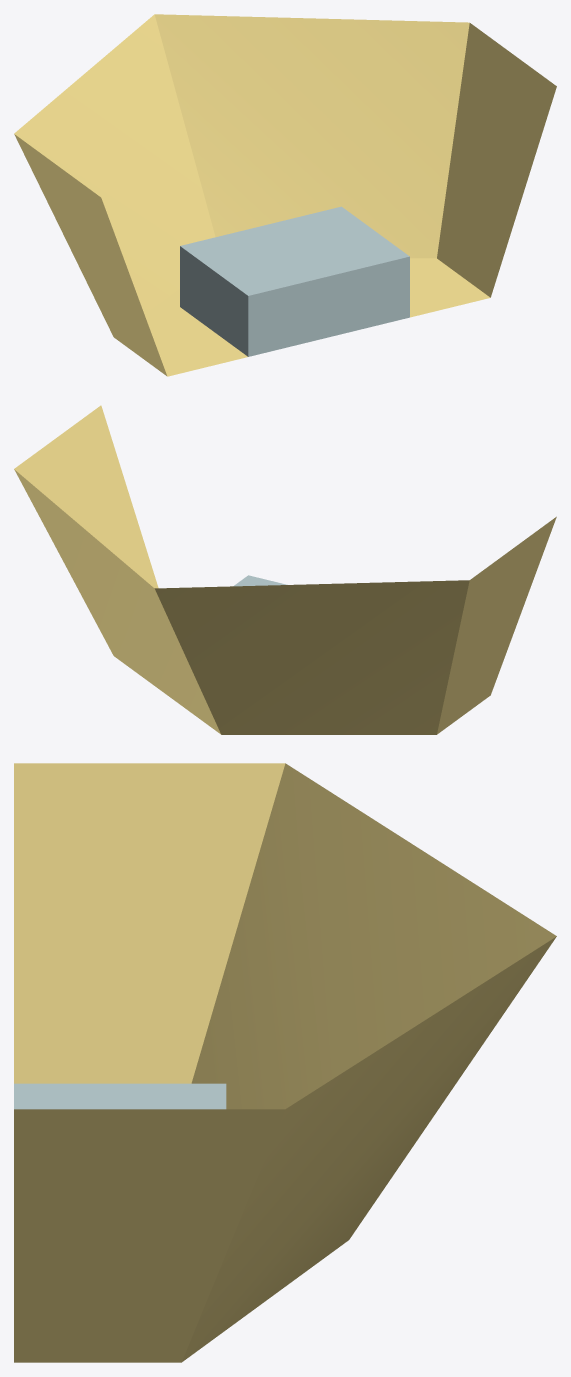
The model's file is lampWall.obj.
The picture shows the model from 3 angles, top to bottom: view 1: azimuth 30°, elevation 25°; view 2: azimuth 150°, elevation 25°; view 3: azimuth 270°, elevation 25°; orthographic projection. The views are drawn at different scales.
Bounding box in the file's own units: 0.2266 × 0.0928 × 0.1503.
